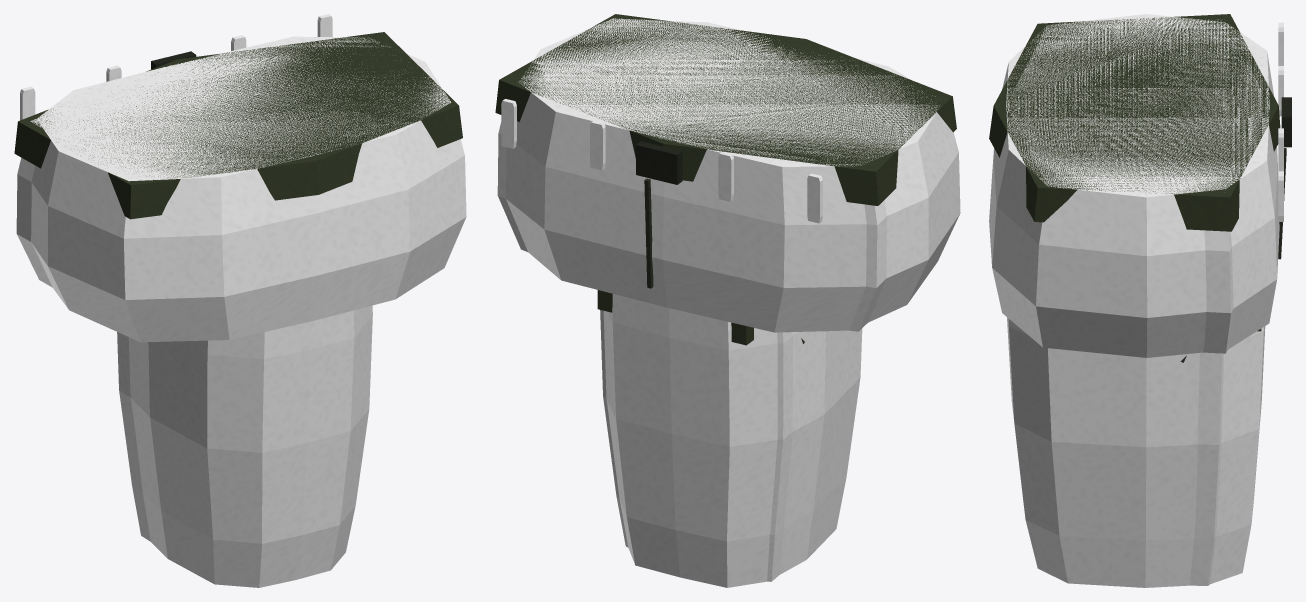
File: trousers_softshell.glb
3 views of the same model, side by side, from view 1: azimuth 30°, elevation 25°; view 2: azimuth 150°, elevation 25°; view 3: azimuth 270°, elevation 25° (orthographic). The views are drawn at different scales.
Visible parts, largest first — view 1: trousers_softshell_pelvis_LOD0_RAID_cloth.001, trousers_softshell_thighL_LOD0_RAID_cloth.001, trousers_softshell_pelvis_LOD0_RAID_reinforce.001, trousers_softshell_pelvis_LOD1_RAID_cloth.001, trousers_softshell_thighL_LOD1_RAID_cloth.001; view 2: trousers_softshell_pelvis_LOD0_RAID_cloth.001, trousers_softshell_thighL_LOD0_RAID_cloth.001, trousers_softshell_pelvis_LOD0_RAID_reinforce.001, trousers_softshell_thighL_LOD1_RAID_cloth.001, trousers_softshell_pelvis_LOD1_RAID_cloth.001, trousers_softshell_pelvis_LOD0_RAID_zip.001, trousers_softshell_pelvis_LOD1_RAID_zip.001, trousers_softshell_pelvis_LOD0_RAID_seam.001, trousers_softshell_shinL_LOD1_RAID_reinforce.001; view 3: trousers_softshell_pelvis_LOD0_RAID_cloth.001, trousers_softshell_thighL_LOD0_RAID_cloth.001, trousers_softshell_pelvis_LOD0_RAID_reinforce.001, trousers_softshell_pelvis_LOD1_RAID_cloth.001, trousers_softshell_thighL_LOD1_RAID_cloth.001, trousers_softshell_pelvis_LOD0_RAID_zip.001.
Boxes of the visible parts, x1=… form: trousers_softshell_pelvis_LOD0_RAID_cloth.001: x1=20, y1=14, x2=466, y2=342; trousers_softshell_thighL_LOD0_RAID_cloth.001: x1=128, y1=305, x2=372, y2=587; trousers_softshell_pelvis_LOD0_RAID_reinforce.001: x1=14, y1=32, x2=462, y2=219; trousers_softshell_pelvis_LOD1_RAID_cloth.001: x1=16, y1=49, x2=441, y2=287; trousers_softshell_thighL_LOD1_RAID_cloth.001: x1=117, y1=332, x2=150, y2=541; trousers_softshell_pelvis_LOD0_RAID_cloth.001: x1=501, y1=18, x2=960, y2=332; trousers_softshell_thighL_LOD0_RAID_cloth.001: x1=603, y1=294, x2=862, y2=587; trousers_softshell_pelvis_LOD0_RAID_reinforce.001: x1=495, y1=14, x2=956, y2=205; trousers_softshell_thighL_LOD1_RAID_cloth.001: x1=600, y1=310, x2=793, y2=581; trousers_softshell_pelvis_LOD1_RAID_cloth.001: x1=497, y1=19, x2=935, y2=331; trousers_softshell_pelvis_LOD0_RAID_zip.001: x1=636, y1=143, x2=682, y2=184; trousers_softshell_pelvis_LOD1_RAID_zip.001: x1=636, y1=141, x2=682, y2=184; trousers_softshell_pelvis_LOD0_RAID_seam.001: x1=644, y1=178, x2=653, y2=288; trousers_softshell_shinL_LOD1_RAID_reinforce.001: x1=597, y1=291, x2=753, y2=345; trousers_softshell_pelvis_LOD0_RAID_cloth.001: x1=989, y1=14, x2=1283, y2=357; trousers_softshell_thighL_LOD0_RAID_cloth.001: x1=1007, y1=317, x2=1265, y2=587; trousers_softshell_pelvis_LOD0_RAID_reinforce.001: x1=989, y1=14, x2=1280, y2=231; trousers_softshell_pelvis_LOD1_RAID_cloth.001: x1=1007, y1=19, x2=1268, y2=353; trousers_softshell_thighL_LOD1_RAID_cloth.001: x1=1190, y1=352, x2=1223, y2=585; trousers_softshell_pelvis_LOD0_RAID_zip.001: x1=1281, y1=99, x2=1291, y2=142.
Bounding box in the file's own units: 0.404 × 0.438 × 0.2665.
4 materials, 4 textured.
